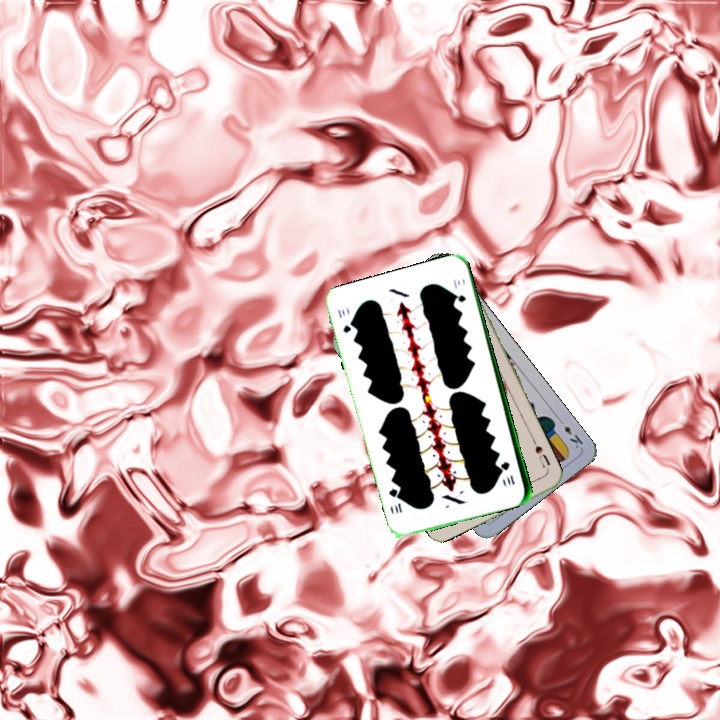EK: (554, 415, 586, 451)
G10: (333, 305, 355, 336), (499, 457, 517, 488)
SU: (531, 441, 553, 470)
